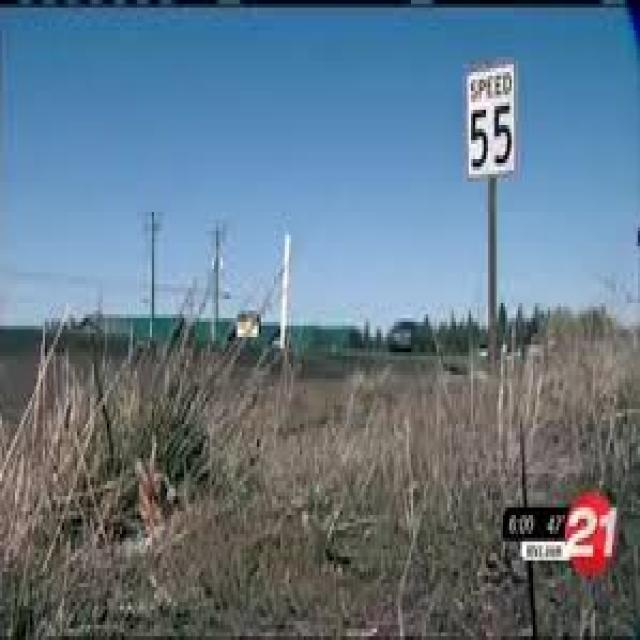speedLimit55: (458, 66, 520, 184)
